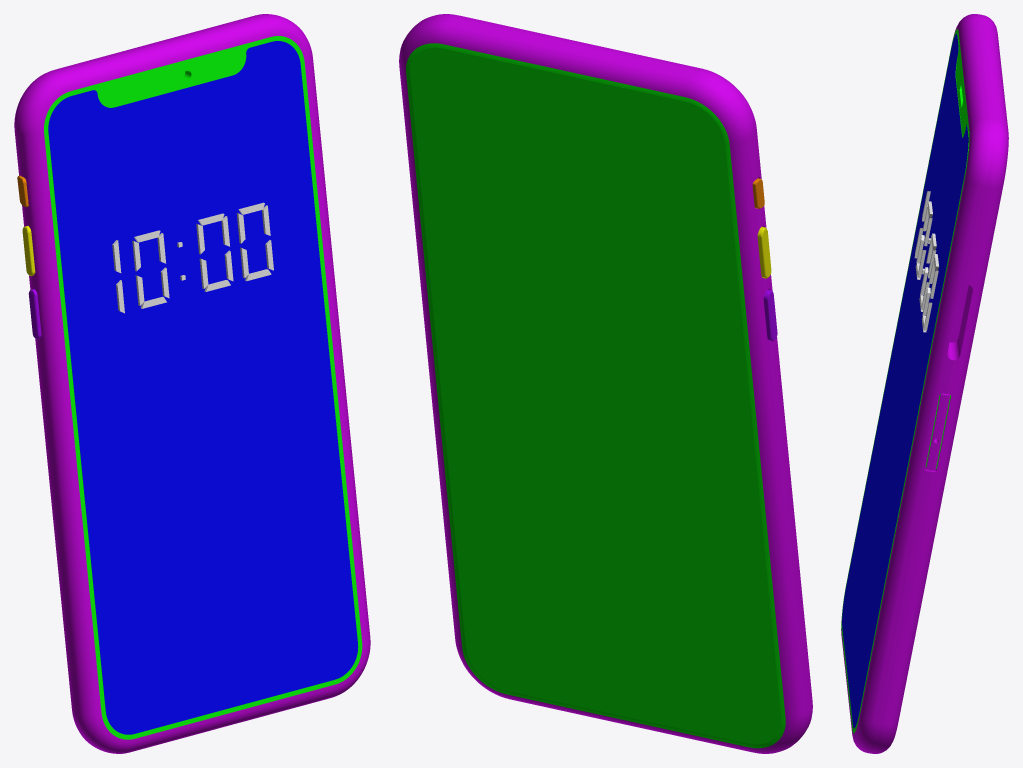
The model's file is phone.fbx.
The picture shows the model from 3 angles, left to right: view 1: azimuth 30°, elevation 25°; view 2: azimuth 150°, elevation 25°; view 3: azimuth 270°, elevation 25°; orthographic projection. The views are drawn at different scales.
Parts seen in each view (by area): view 1: mobile; view 2: mobile; view 3: mobile.
Part boxes in pixels (<box>): mobile: <box>14,14,370,753</box>; mobile: <box>399,14,812,753</box>; mobile: <box>841,14,1008,753</box>.
Size of the model in its own units: 166 by 333 by 80.42.
